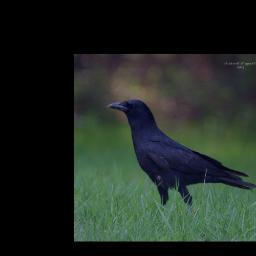Crow: (108, 98, 256, 217)
